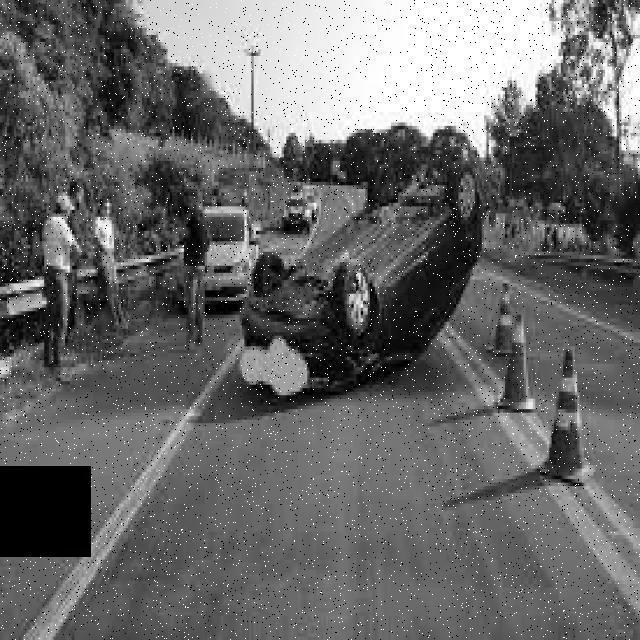accident: (234, 152, 486, 401)
vehicle: (173, 205, 259, 310), (277, 194, 311, 234), (296, 187, 323, 219)
